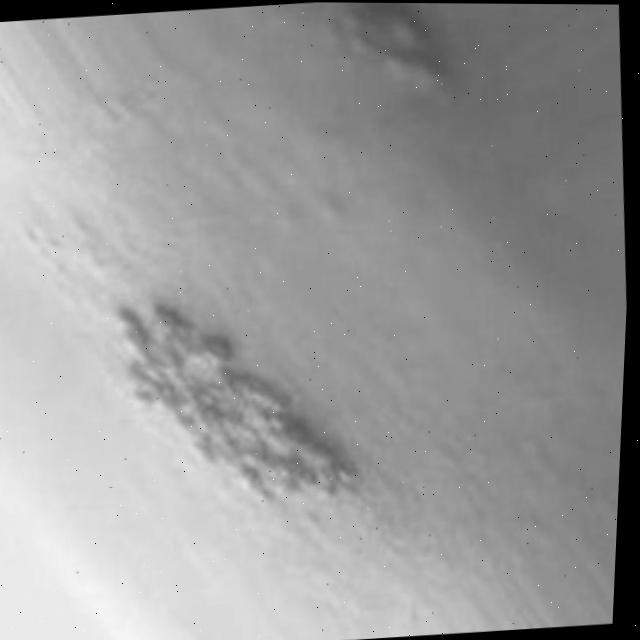Shingles: (93, 275, 373, 524), (314, 2, 454, 107)
